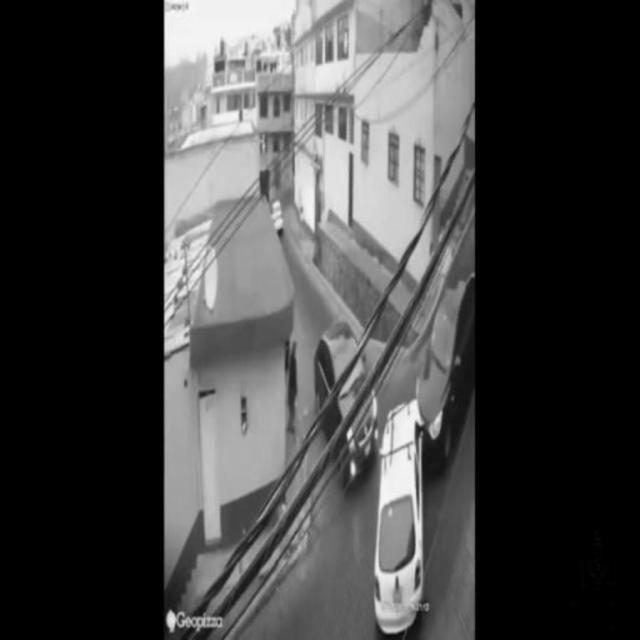accident: (380, 253, 470, 640)
vehicle: (314, 325, 384, 493)
